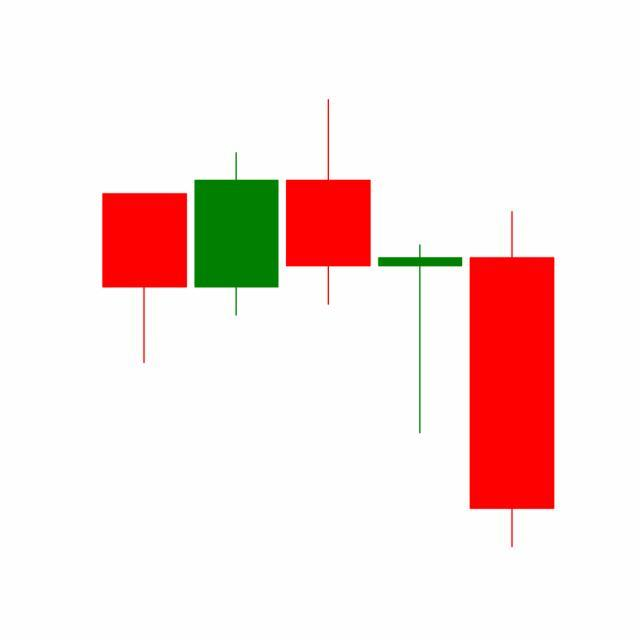Hammer: (374, 242, 468, 436)
